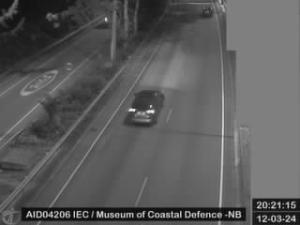vehicle: (123, 90, 165, 126), (202, 7, 212, 17)
